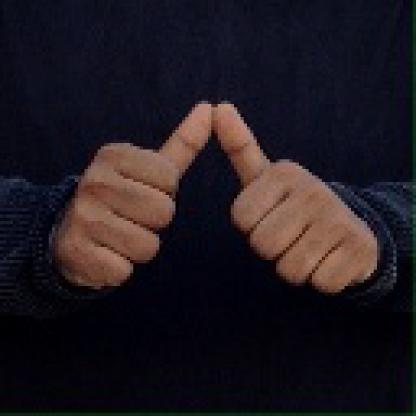A: (58, 96, 390, 286)
